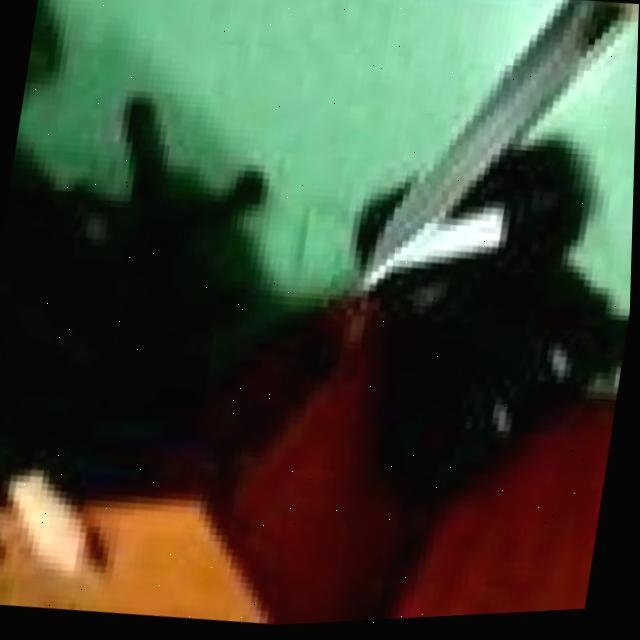knife: (368, 0, 632, 315)
